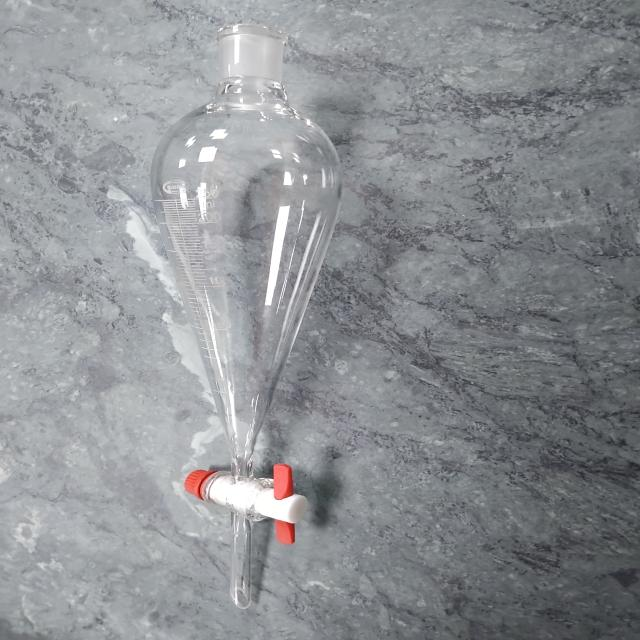Separating_Funnel: (113, 14, 370, 621)
